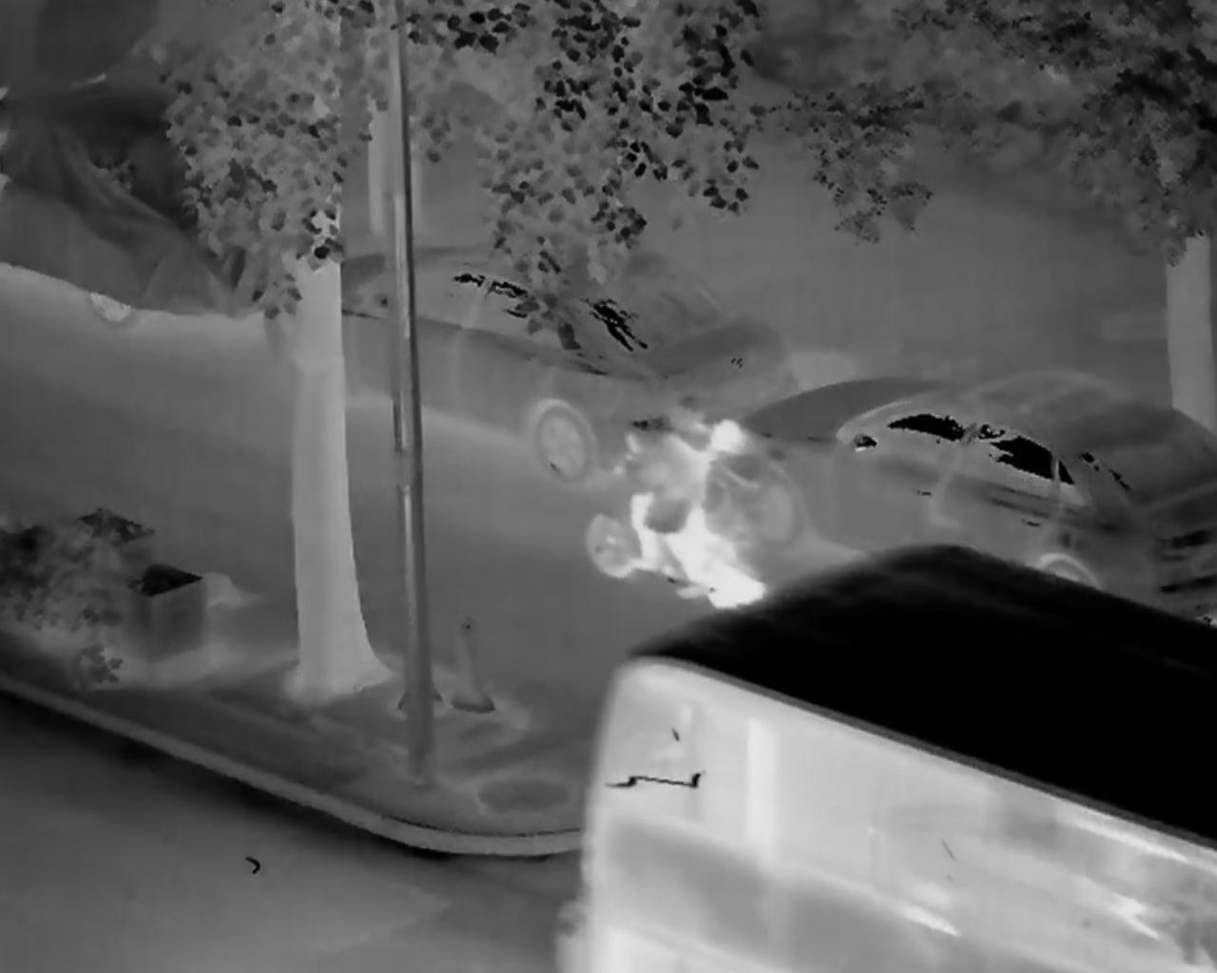person: (607, 405, 773, 596)
